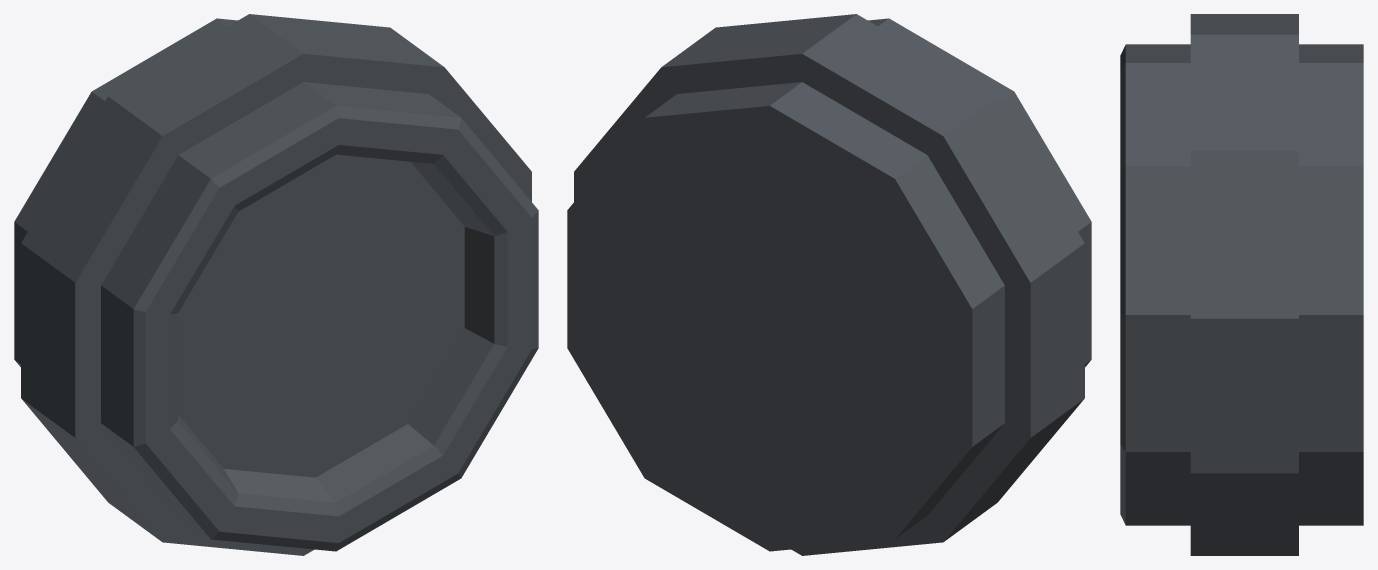
File: Dropship_03_Thruster_Blue.fbx
3 views of the same model, side by side, from view 1: azimuth 30°, elevation 25°; view 2: azimuth 150°, elevation 25°; view 3: azimuth 270°, elevation 25° (orthographic).
Parts seen in each view (by area): view 1: Dropship_03_Thruster_Blue; view 2: Dropship_03_Thruster_Blue; view 3: Dropship_03_Thruster_Blue.
Boxes of the visible parts, <box> form: Dropship_03_Thruster_Blue: <box>14,14,538,555</box>; Dropship_03_Thruster_Blue: <box>567,14,1091,555</box>; Dropship_03_Thruster_Blue: <box>1120,14,1363,555</box>.
Bounding box in the file's own units: 88.17 × 92.7 × 40.84.
Materials: 2 (2 with a texture image).
